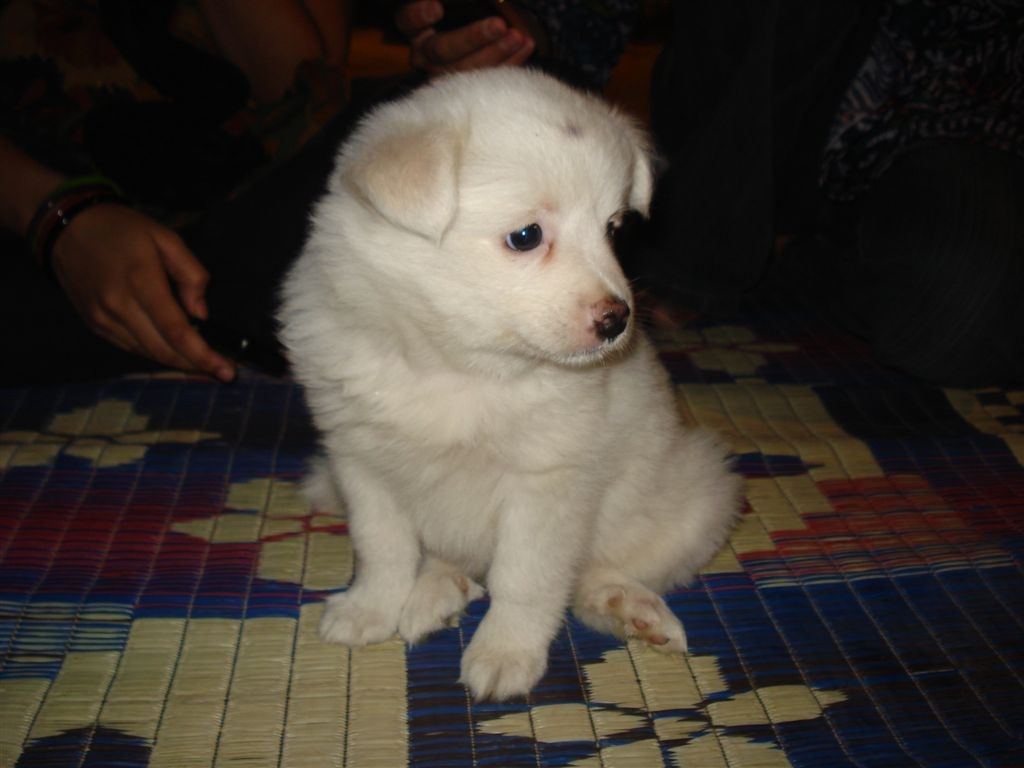Human_hand: (48, 205, 237, 381)
